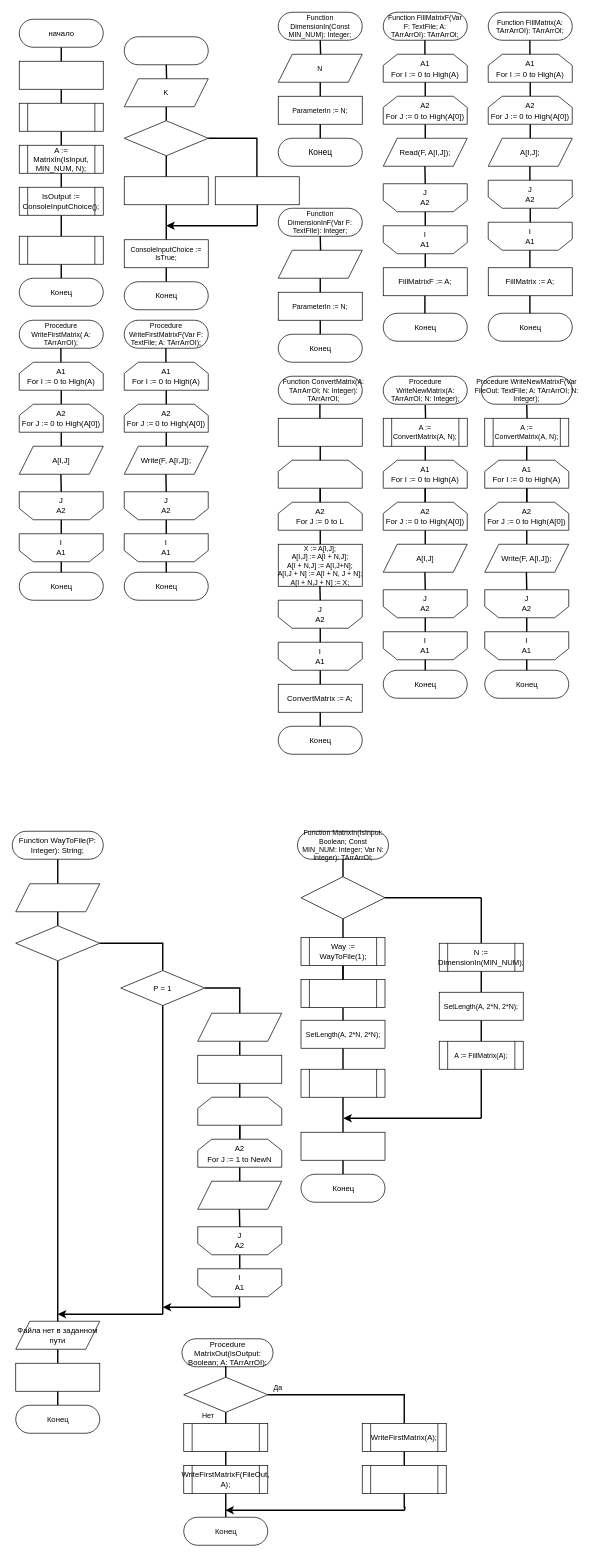
The diagram is 592 pixels wide and 1558 high, and some of its shapes have lost their labels. The shapes that lost their labels are listed below. From the top down, each one's box as (x1, y1, x2, y2) in pixels, then its label:
(124, 36, 208, 65): Function ConsoleInputChoice(): Boolean;
(19, 61, 103, 89): Const MIN_NUM = 2; Type TArrArrOI = Array of Array of Integer
(19, 103, 103, 131): IsInput = ConsoleInputChoice();
(124, 120, 208, 156): K = 0
(124, 176, 208, 205): IsTrue := False;
(215, 176, 299, 205): IsTrue := True;
(19, 236, 103, 264): MatrixOut(IsOutput, N, A);
(278, 250, 362, 278): Readln(F, N);
(278, 418, 362, 446): L := N - 1;
(278, 460, 362, 488): A1 For I := 0 to L
(15, 883, 100, 912): Way
(300, 876, 385, 919): IsInput
(15, 925, 100, 961): FileExists(Way)
(300, 979, 385, 1008): N := DimensionInF(F);
(197, 1013, 282, 1041): Read(F, N);
(197, 1055, 282, 1083): NewN := 2*N;
(300, 1069, 385, 1097): A := FillMatrixF(F, A);
(197, 1097, 282, 1125): A1 For I := 1 to NewN
(300, 1132, 385, 1160): MatrixIn := A;
(197, 1181, 282, 1209): Read(F, Cell);
(15, 1363, 100, 1391): WayToFile := Way;
(183, 1377, 268, 1412): IsOutput
(183, 1423, 268, 1451): Way := WayToFile(11);
(362, 1465, 446, 1493): WriteNewMatrix(A, N);
